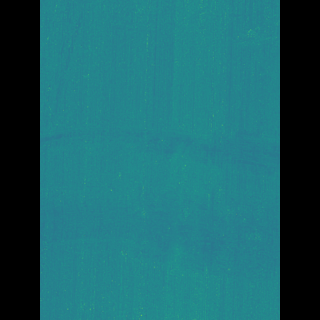Loch: (70, 120, 248, 282)
